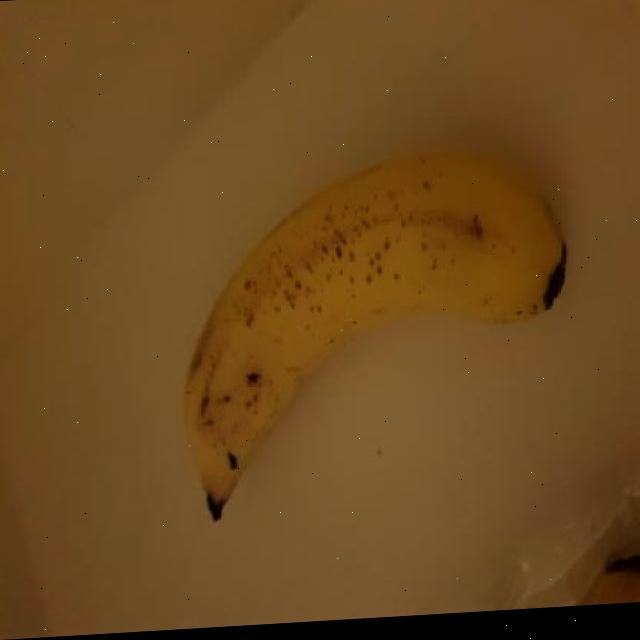banana: (172, 125, 572, 534)
